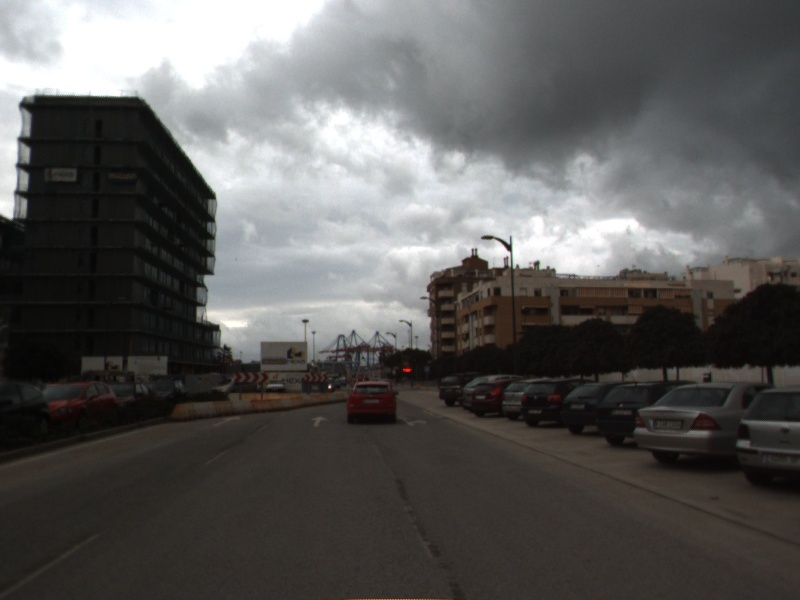STRAIGHT: (211, 413, 243, 428), (308, 414, 330, 428)
STRAIGHT_RIGHT: (395, 414, 429, 428)
